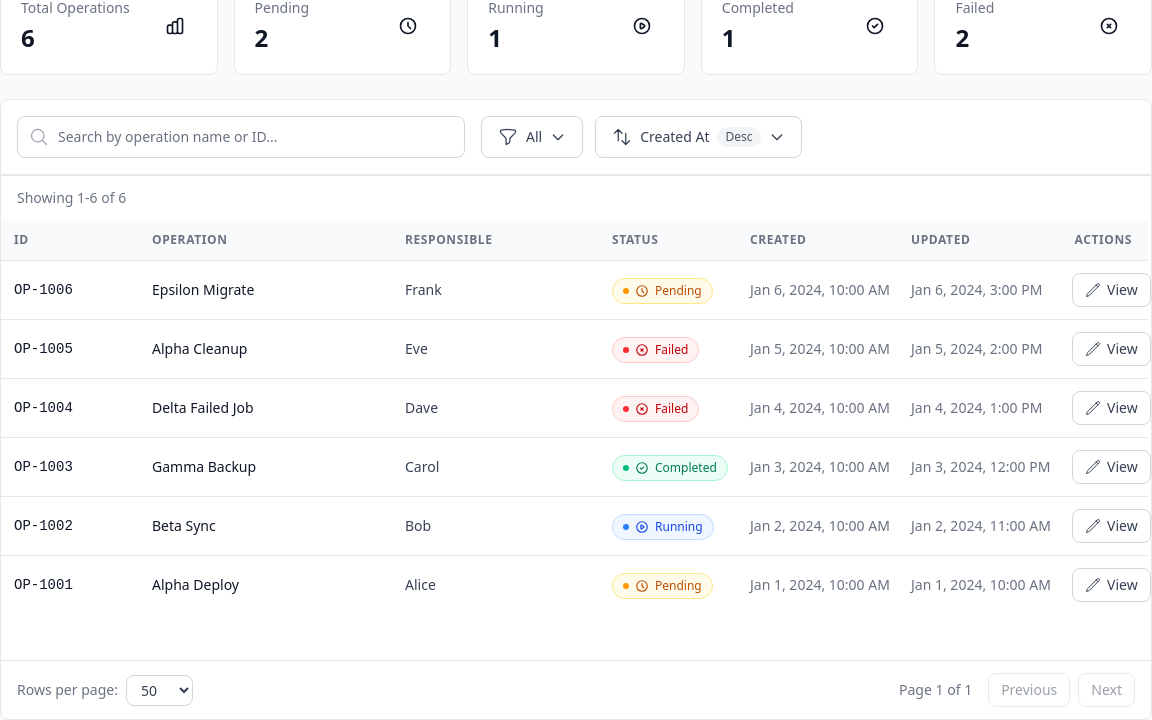
Test: OperationsDashboard › Status change + Statistics
(page scrolled)
Click the button with aria-label "View details for Alpha Deploy" at coordinates (1111, 585), box [1072,568,1151,602]
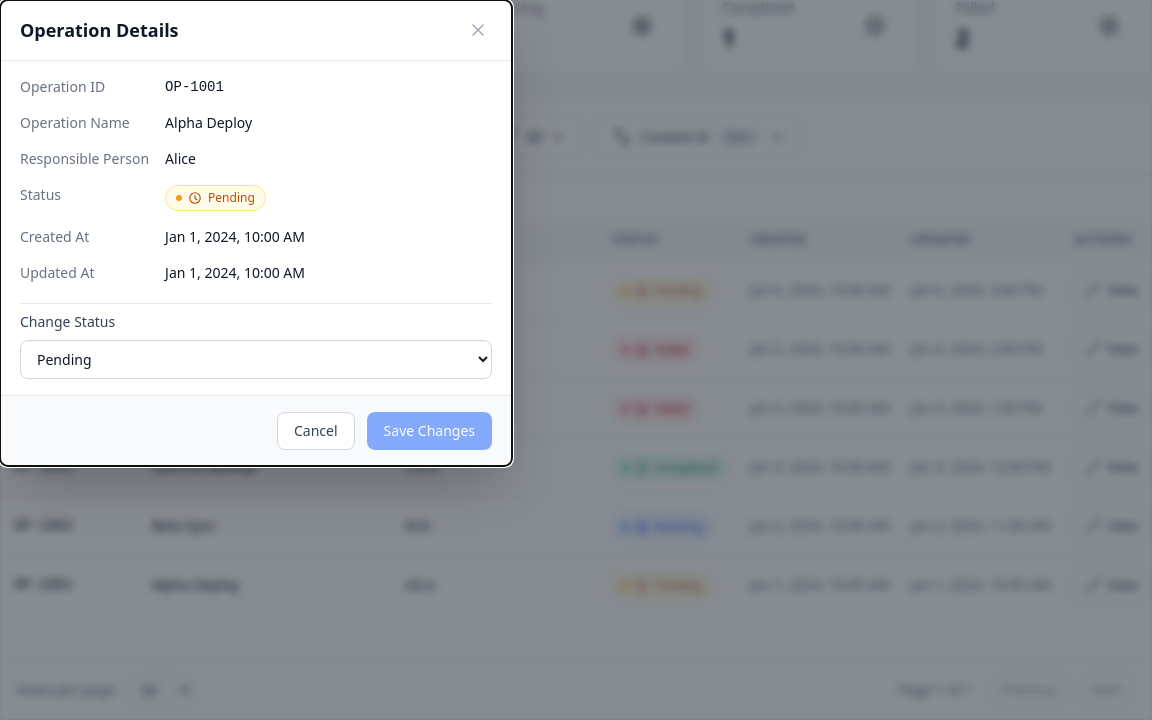
Result: the heading "Operation Details" is shown at [20,16,179,44]
Select "Completed" in the dropdown named "Select new status" at coordinates (256, 360), box [20,340,492,379]
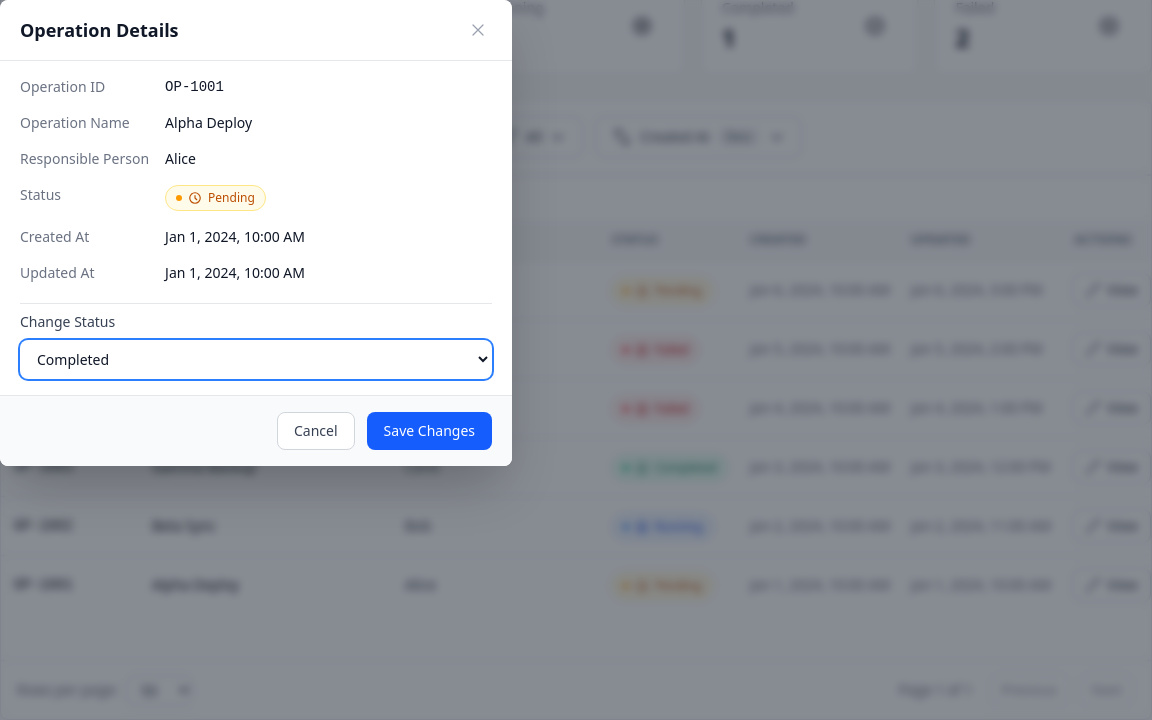
Click the button "Save Changes" at coordinates (429, 431), box [367,412,492,450]
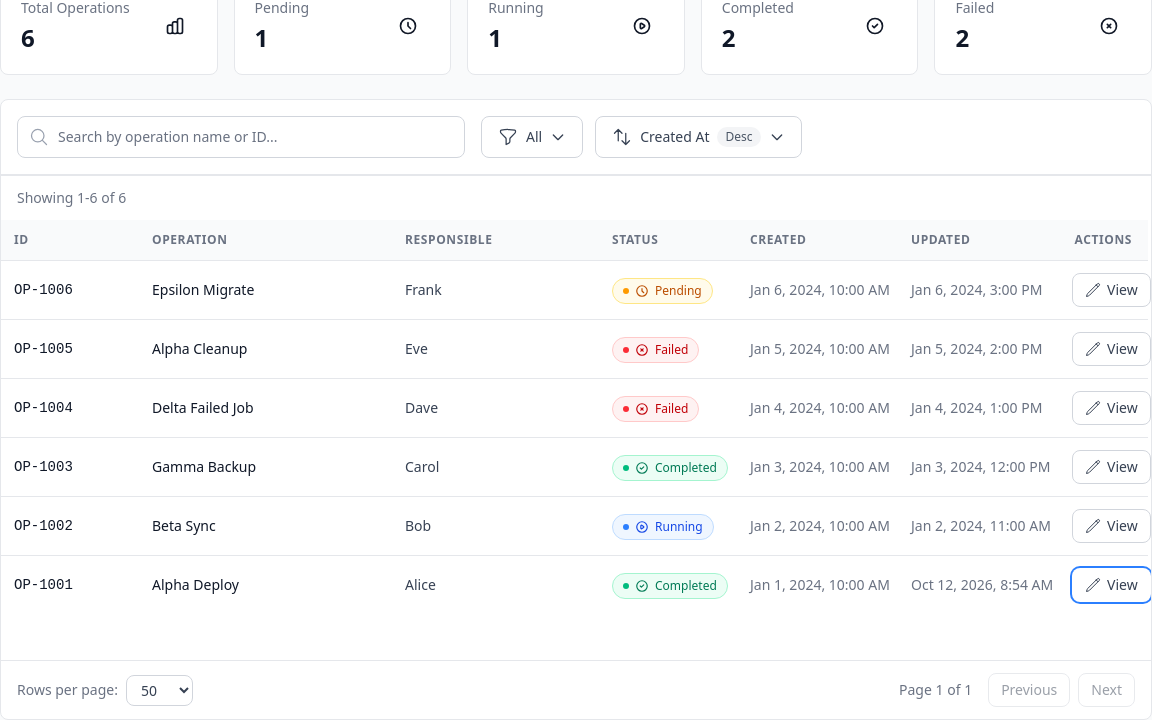
Expected: the text "Alpha Deploy" is shown, [152,575,239,594]
Result: the heading "Operation Details" is gone
Result: the text "Completed" is shown at [612,573,728,599]
